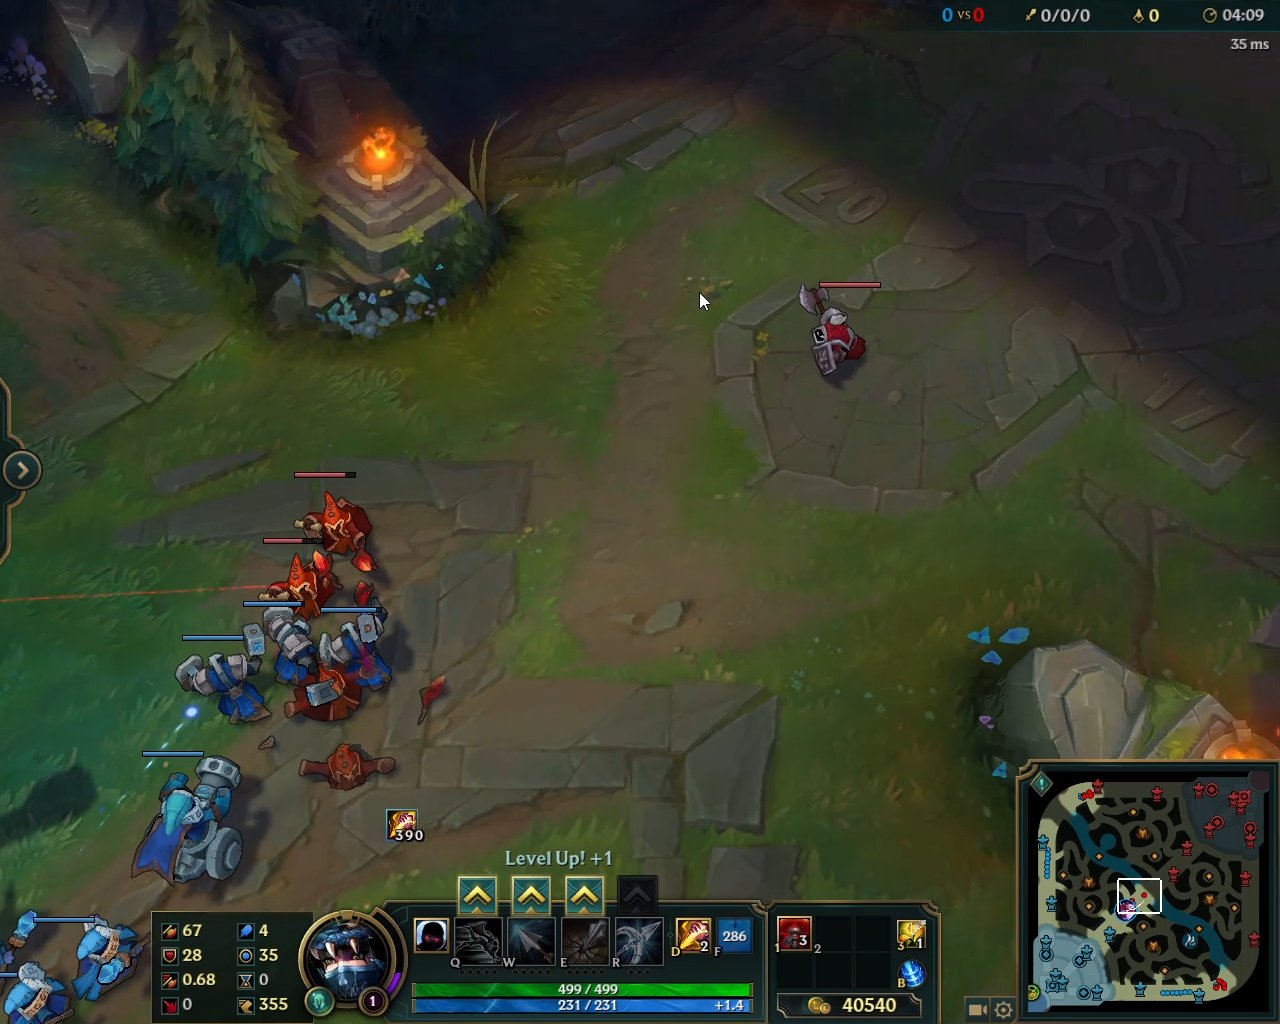EnemyMinion: (790, 281, 881, 381), (295, 473, 377, 572), (256, 538, 343, 624)
